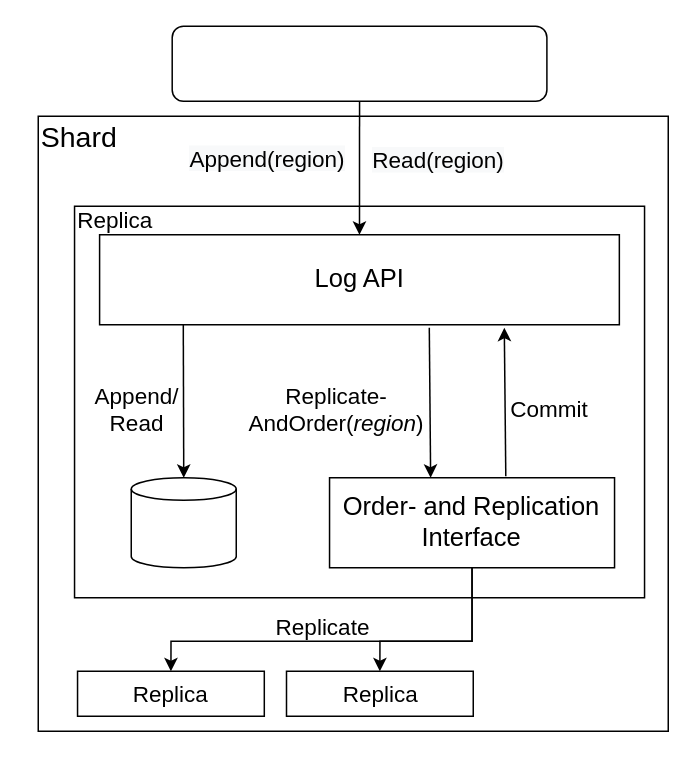
This 695x758 diagram has some shape labels left out. The centre of each missing label's shape, as x and y in pixels:
Clients: [359,63]
PM: [183,522]
